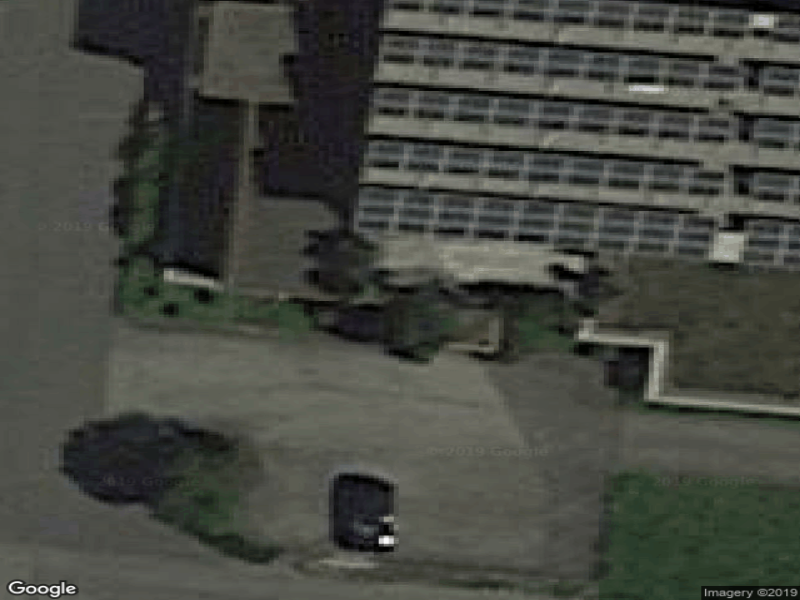pv: (362, 185, 719, 245), (372, 85, 736, 142), (366, 138, 726, 187), (382, 37, 748, 82), (398, 1, 749, 26), (747, 219, 800, 242), (756, 118, 800, 139), (754, 171, 800, 189), (767, 67, 800, 82), (778, 13, 800, 27)
